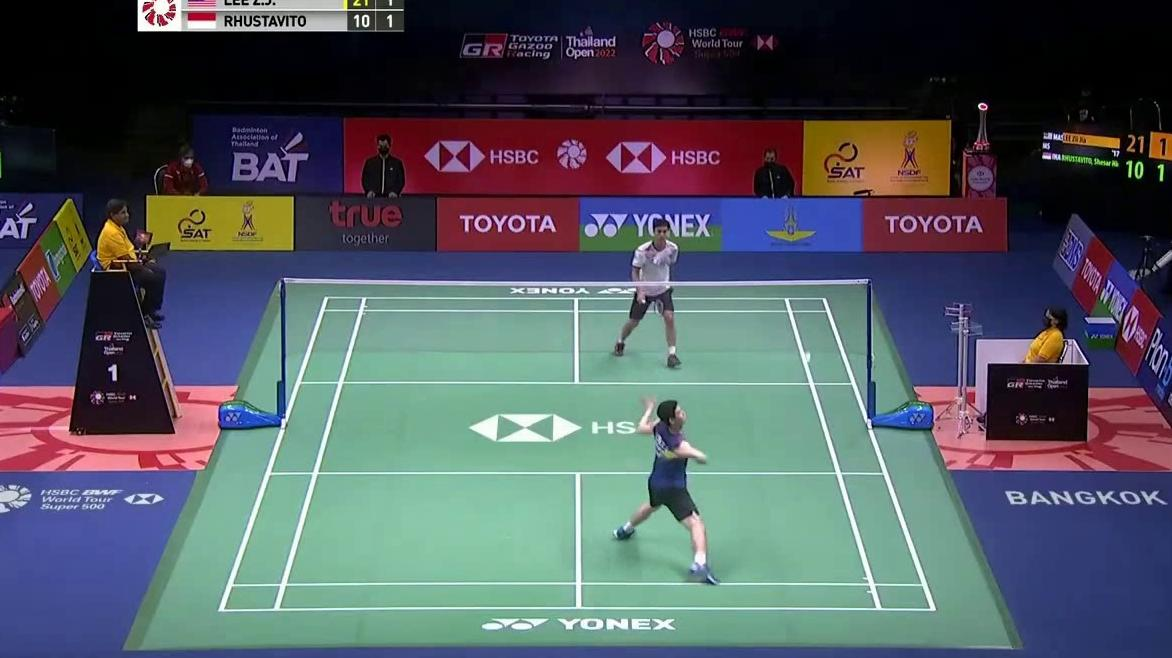racket: (637, 296, 664, 316)
shuttle: (804, 351, 812, 363)
